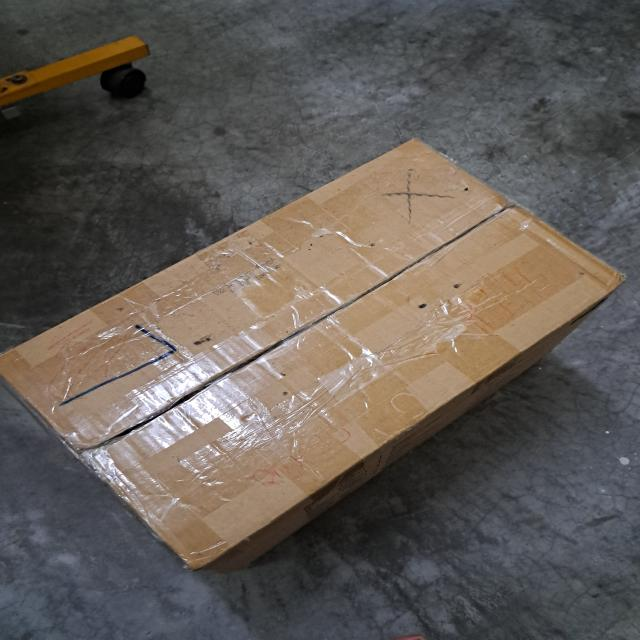cardboard: (0, 140, 629, 572)
